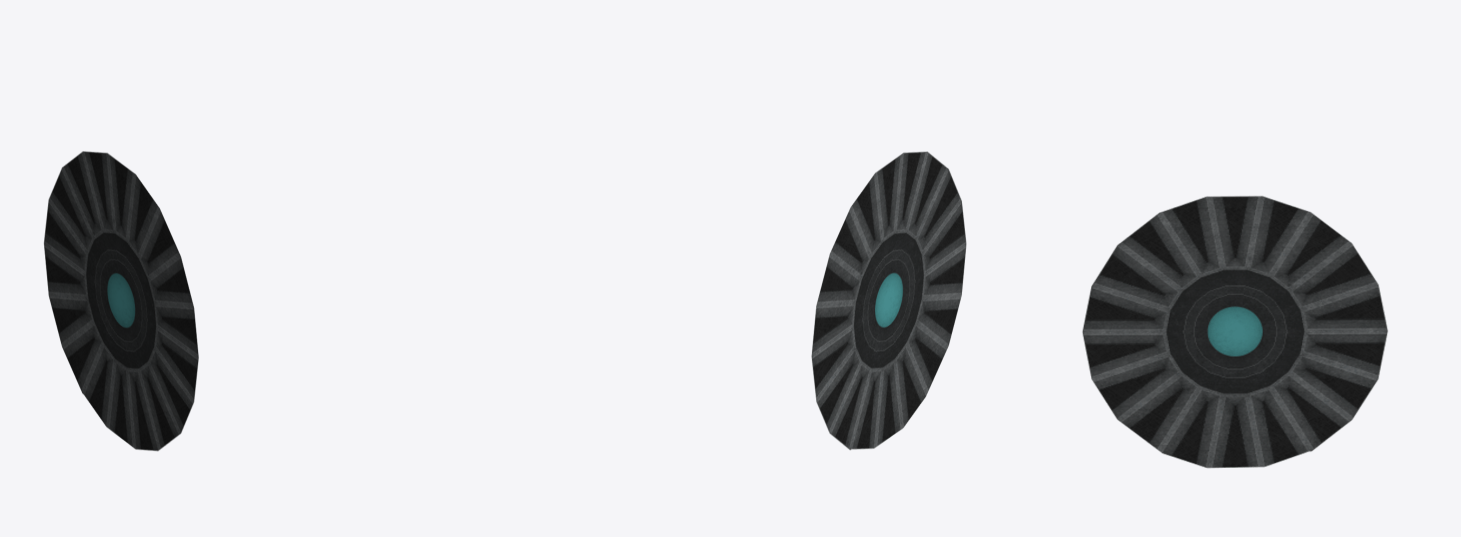
Rendered from rotating.glb.
The picture shows the model from 3 angles, left to right: view 1: azimuth 30°, elevation 25°; view 2: azimuth 150°, elevation 25°; view 3: azimuth 270°, elevation 25°; orthographic projection.
Visible parts, largest first — view 1: ceil1_inner.png__; view 2: ceil1_inner.png__; view 3: ceil1_inner.png__.
Boxes of the visible parts, x1,y1,x2,y2 form: ceil1_inner.png__: (44,151,198,451); ceil1_inner.png__: (811,151,966,449); ceil1_inner.png__: (1082,196,1387,468).
Bounding box in the file's own units: 6.23 × 8.8 × 8.8.
Materials: 1 (1 with a texture image).
